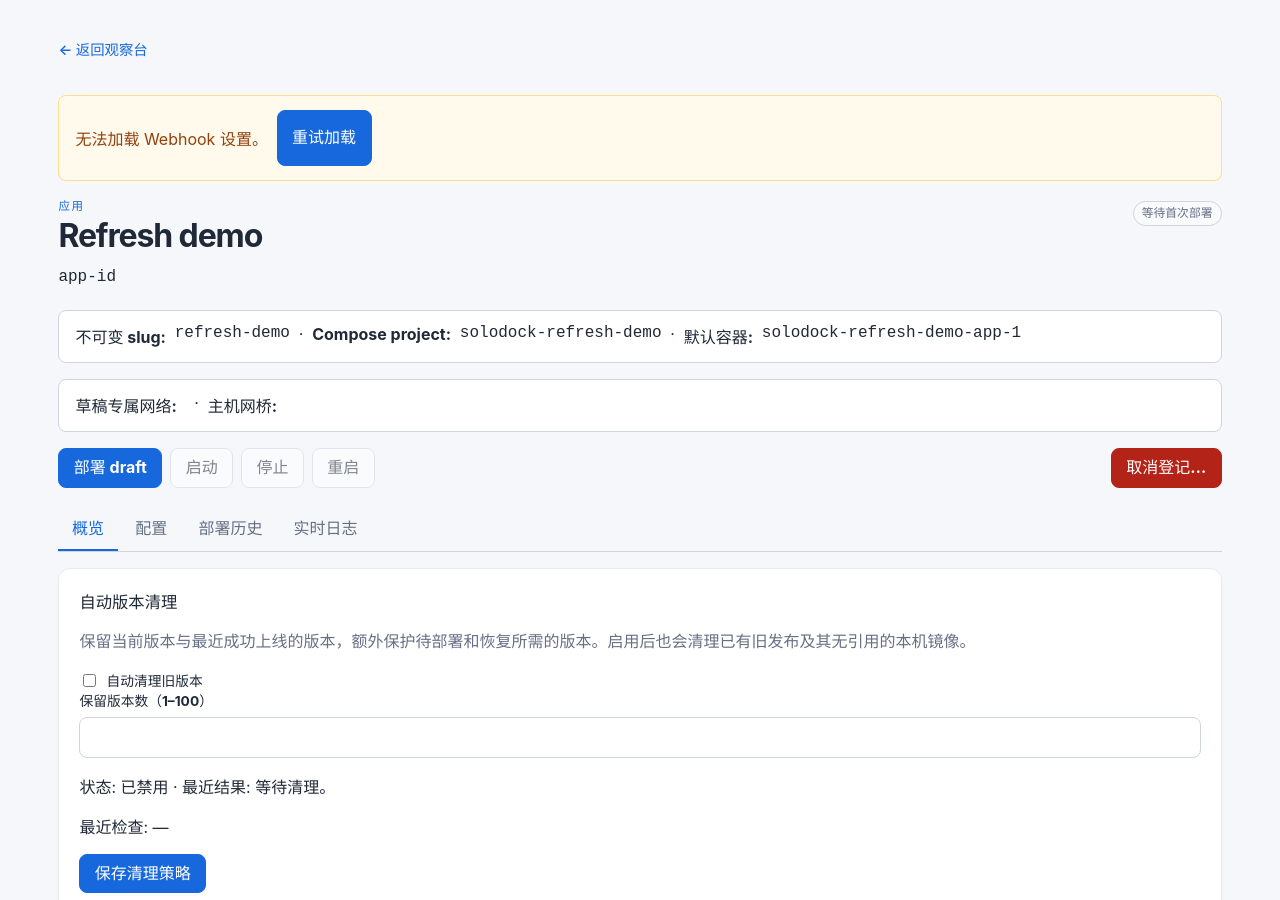
Test: app detail refresh and loading recovery › keeps real webhook failures visible and allows retry ({})
This screenshot has width=1280, height=900.
Expected: the text "无法加载 Webhook 设置。" is shown, [75, 126, 268, 150]
Click the button "重试加载" at (324, 138), box [277, 110, 372, 166]
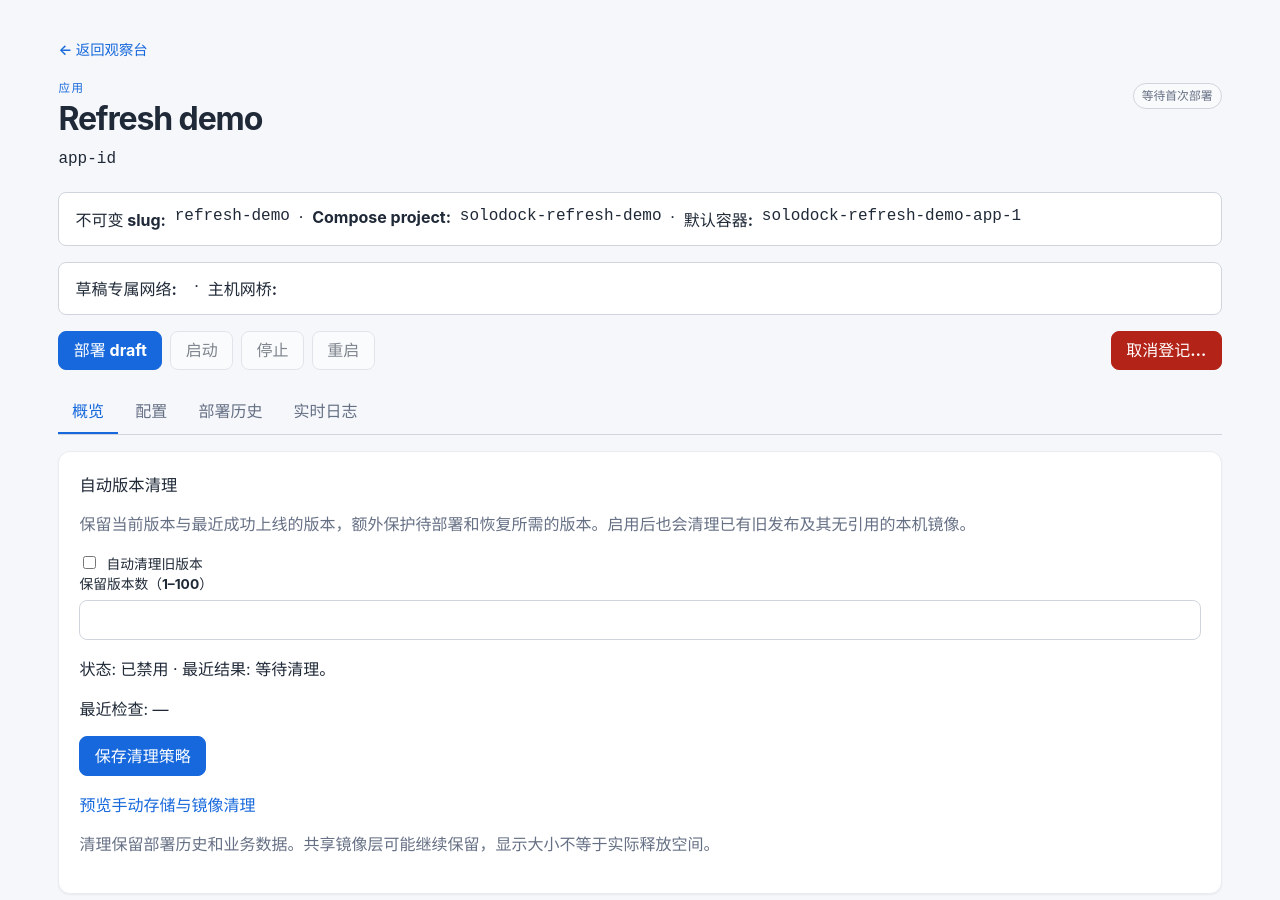
Result: the text "无法加载 Webhook 设置。" is gone
Click the button "配置" at (151, 412), box [122, 390, 181, 434]
(page scrolled)
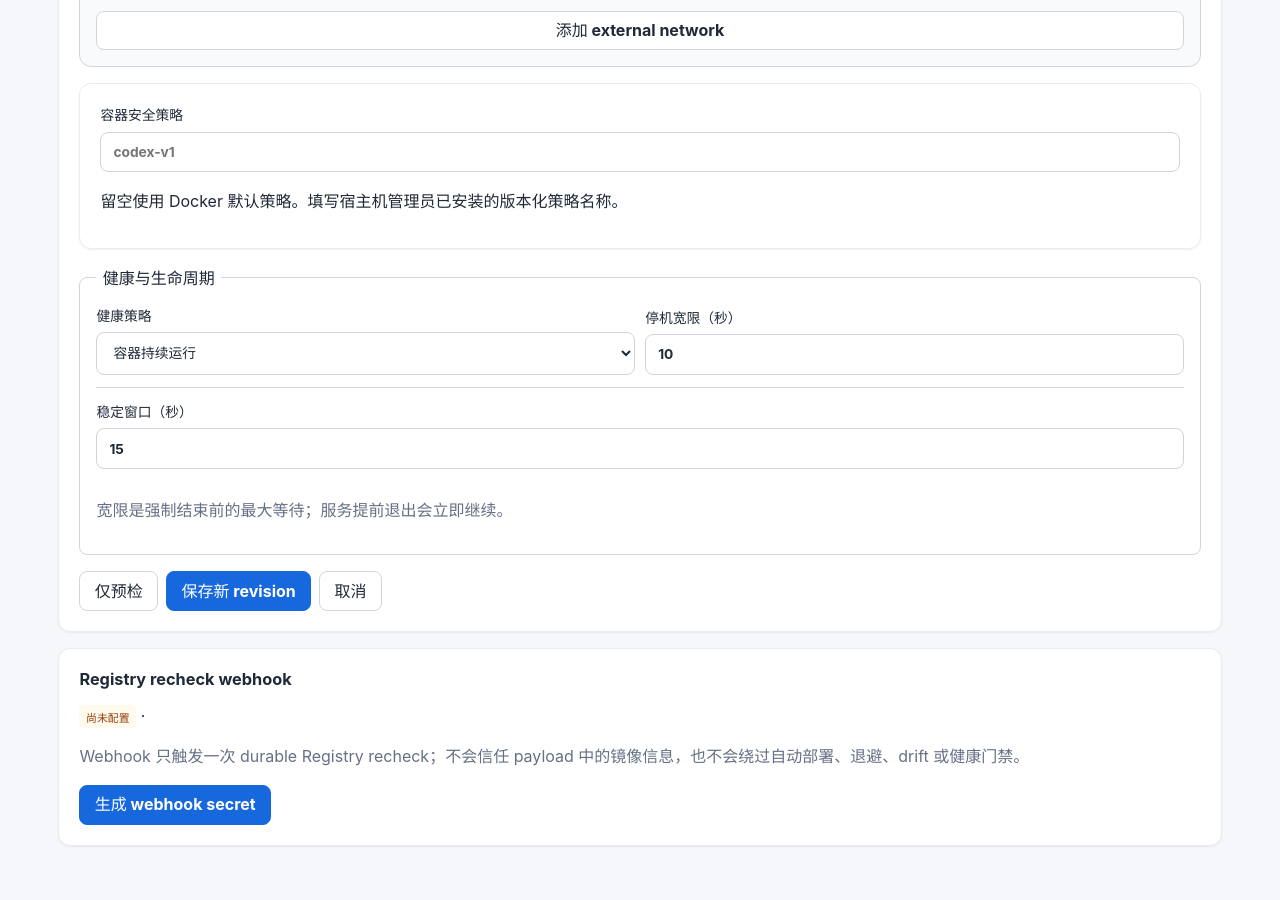
Result: the heading "Registry recheck webhook" is shown at [79, 669, 292, 689]
